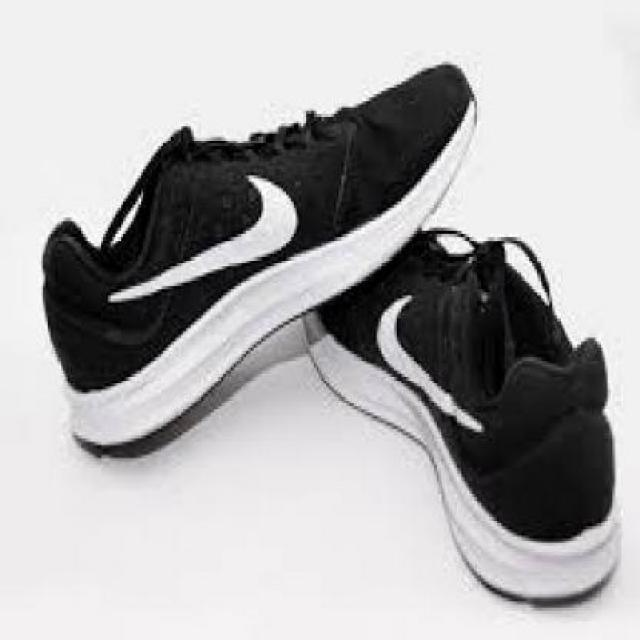Nike: (98, 166, 301, 309), (372, 286, 483, 432)
